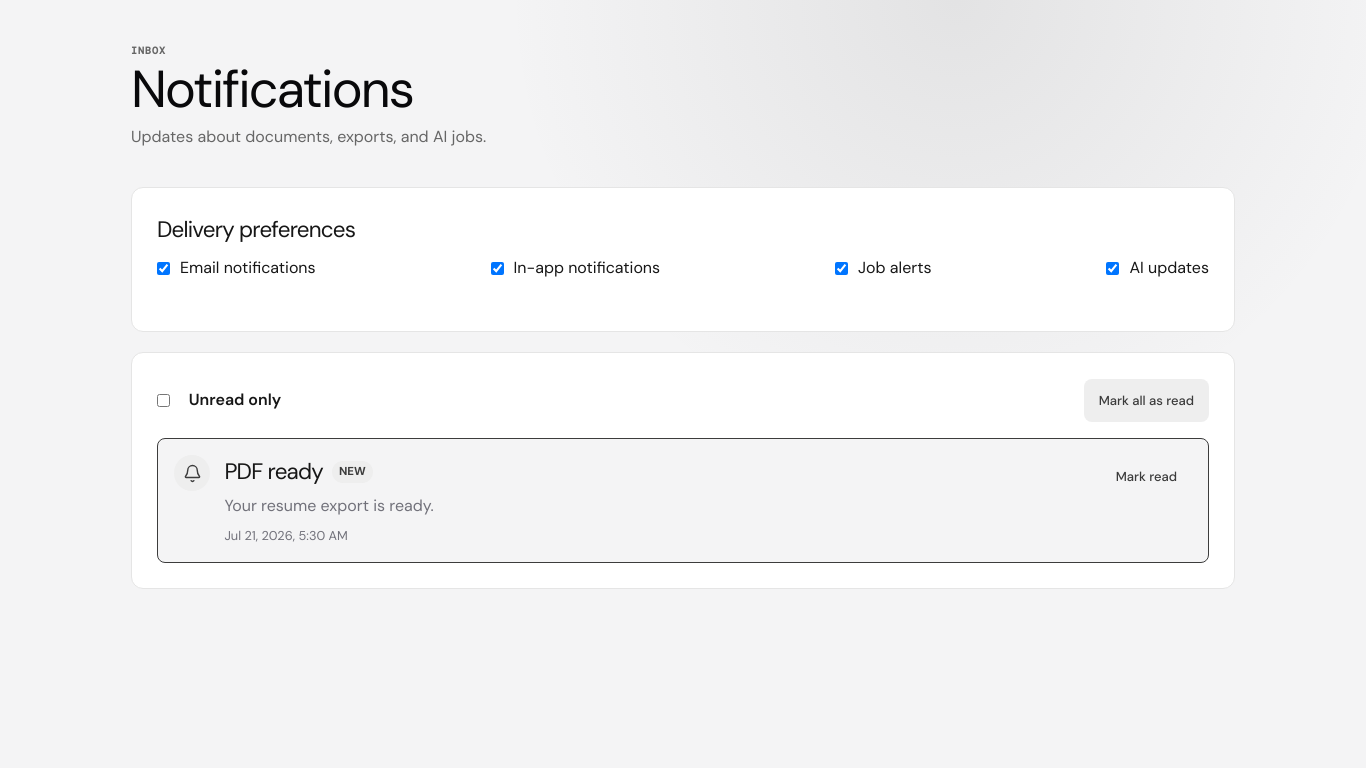
Test: NotificationsPanel › shows an error when marking all notifications as read fails
The width and height of the screenshot is (1366, 768).
Expected: the heading "PDF ready" is shown, [224,455,323,489]
Click the button "Mark all as read" at (1146,400), box [1084,378,1209,422]
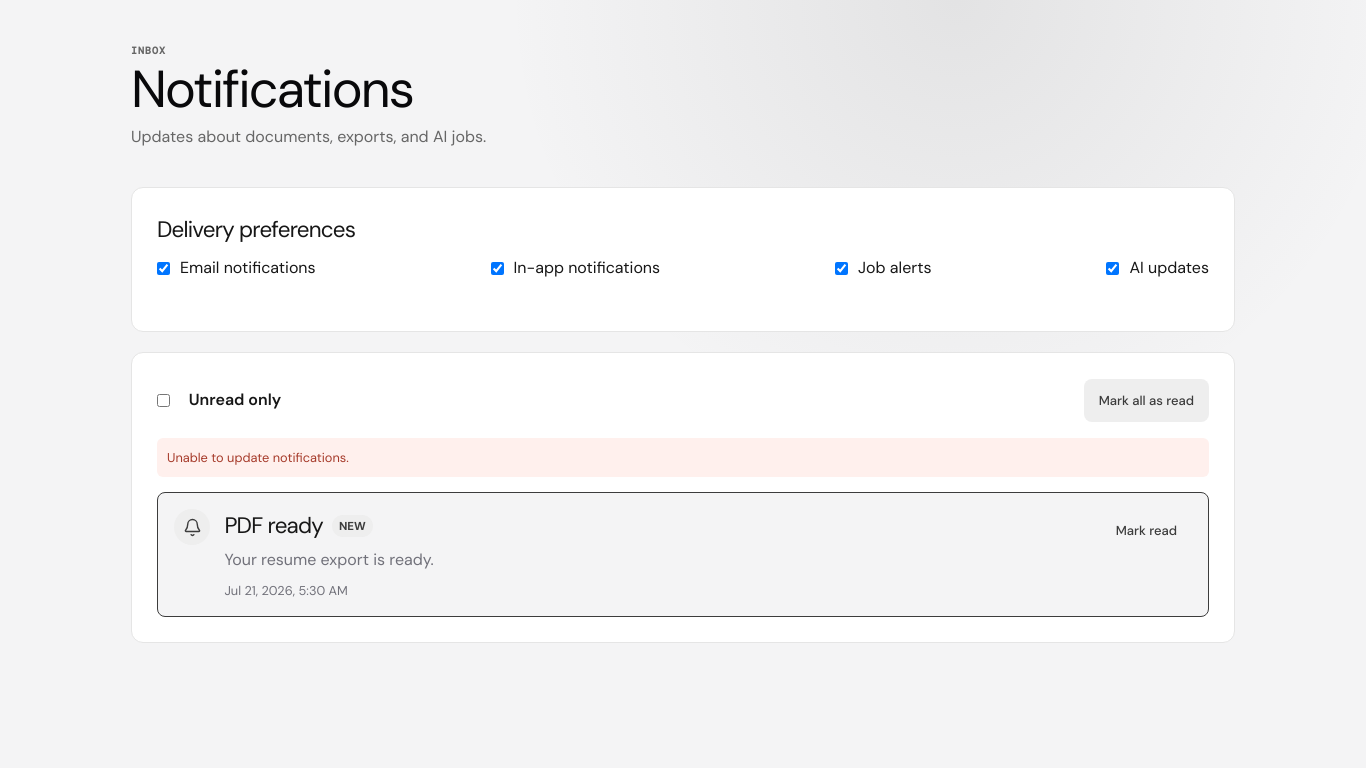
Result: the message reads "Unable to update notifications." at [167,449,349,466]
